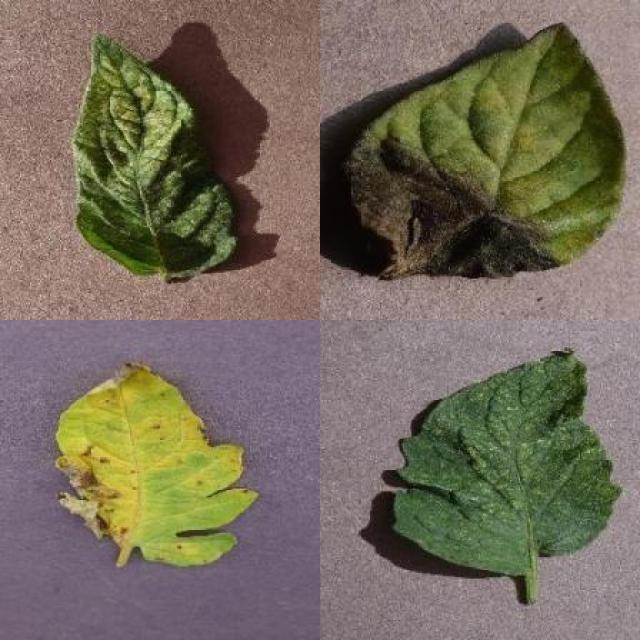Late Blight: (345, 21, 628, 282)
Septoria: (58, 362, 261, 568)
Spider Mites: (390, 346, 623, 574), (72, 34, 235, 275)
